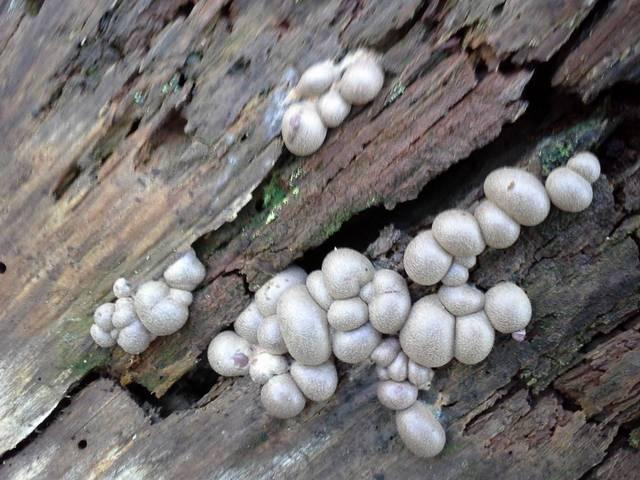poisonous_mushroom: (205, 148, 601, 457), (88, 247, 206, 355), (279, 46, 384, 157), (482, 165, 550, 226), (394, 399, 446, 458), (280, 101, 326, 156), (338, 52, 384, 105), (544, 165, 593, 212)
